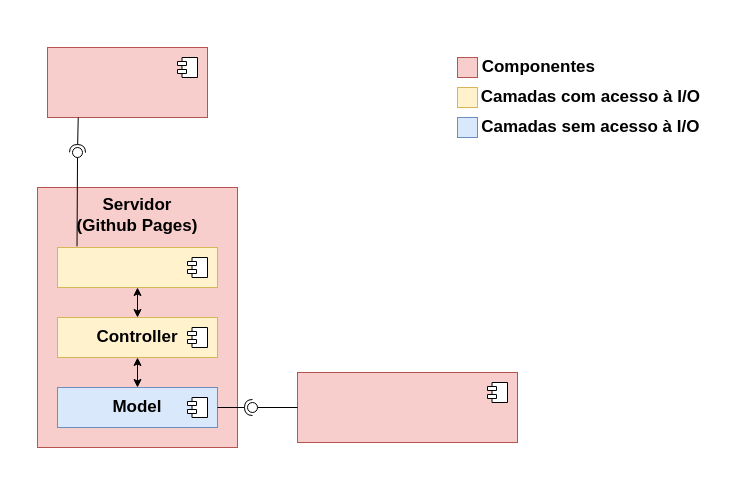
Image size: 744x494. Some labels were removed from this diagram. The shapes that lost their labels are listed below. From the top down, each one's box as (x1, y1, x2, y2) in pixels, then its label:
(46, 46, 208, 118): Cliente (Navegador)
(56, 246, 218, 288): View
(296, 372, 518, 442): Servidores Externos (Provedores de Dados)
